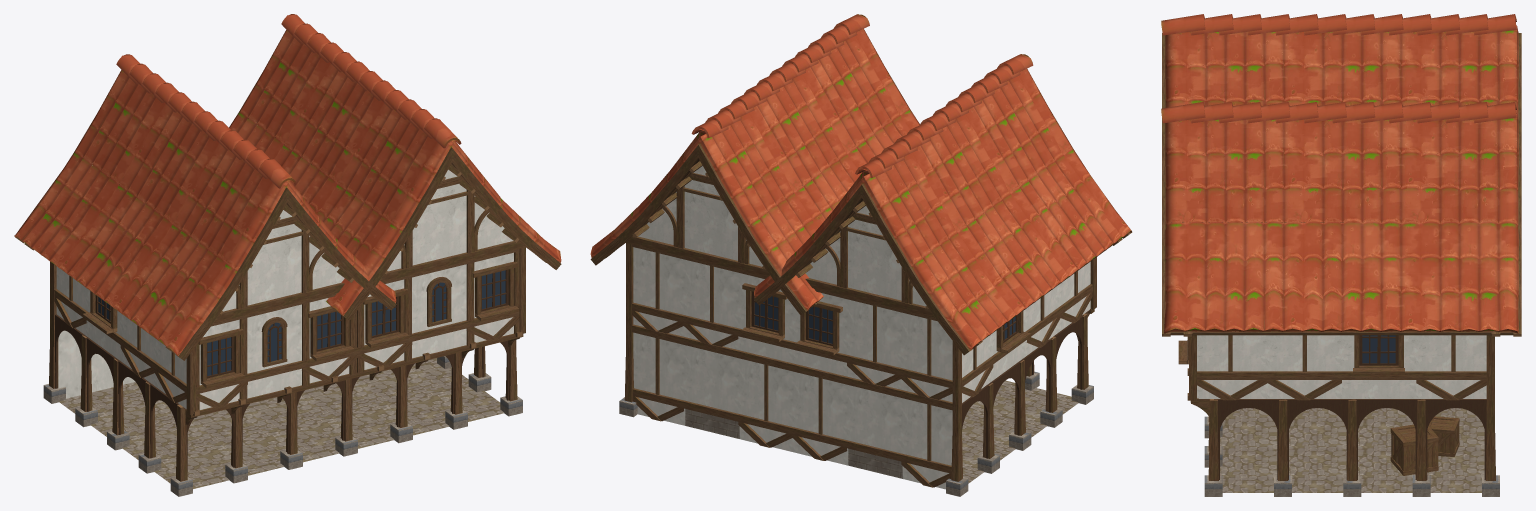
Rendered from market_hall.glb.
The picture shows the model from 3 angles, left to right: view 1: azimuth 30°, elevation 25°; view 2: azimuth 150°, elevation 25°; view 3: azimuth 270°, elevation 25°; orthographic projection. The views are drawn at different scales.
Parts seen in each view (by area): view 1: Roof_RoundTiles_6x8.127, Roof_RoundTiles_6x8.130, Roof_Front_Brick6.131, Roof_Front_Brick6.128, Wall_Plaster_Window_Thin_Round+upper.095, Wall_Plaster_Window_Thin_Round+upper.101, Wall_Plaster_Window_Wide_Flat2+upper.103, Wall_Plaster_Window_Wide_Flat2+upper.097, Wall_Plaster_Window_Wide_Flat2+upper.099, Wall_Plaster_Window_Wide_Flat2+upper.093, Window_Wide_Flat1.104, Window_Wide_Flat1.094 (+33 smaller); view 2: Roof_RoundTiles_6x8.127, Roof_RoundTiles_6x8.130, Roof_Front_Brick6.132, Roof_Front_Brick6.129, Wall_Plaster_Straight.010, Wall_Plaster_Straight.009, Wall_Plaster_Straight_Base.011, Wall_Plaster_Straight_Base.008, Wall_Plaster_Straight.007, Wall_Plaster_Straight+upper.111, Wall_Plaster_Straight.012, Wall_Plaster_Straight+upper.106 (+22 smaller); view 3: Roof_RoundTiles_6x8.130, Roof_RoundTiles_6x8.127, Wall_Plaster_Straight+upper.119, Wall_Plaster_Straight+upper.118, Wall_Plaster_Straight+upper.122, Wall_Plaster_Window_Wide_Flat+upper.120, Window_Wide_Flat1.121, Floor_UnevenBrick.068, Floor_UnevenBrick.067, Prop_Crate.076, Floor_UnevenBrick.072, Floor_UnevenBrick.071 (+20 smaller).
Part boxes in pixels (x1,y1,x2,y2): Roof_RoundTiles_6x8.127: (14, 54, 396, 360); Roof_RoundTiles_6x8.130: (229, 14, 561, 320); Roof_Front_Brick6.131: (380, 165, 526, 282); Roof_Front_Brick6.128: (213, 205, 353, 323); Wall_Plaster_Window_Thin_Round+upper.095: (247, 301, 302, 398); Wall_Plaster_Window_Thin_Round+upper.101: (412, 261, 467, 358); Wall_Plaster_Window_Wide_Flat2+upper.103: (466, 249, 519, 346); Wall_Plaster_Window_Wide_Flat2+upper.097: (301, 293, 357, 386); Wall_Plaster_Window_Wide_Flat2+upper.099: (357, 275, 412, 373); Wall_Plaster_Window_Wide_Flat2+upper.093: (196, 315, 247, 410); Window_Wide_Flat1.104: (472, 261, 519, 320); Window_Wide_Flat1.094: (198, 328, 244, 387); Roof_RoundTiles_6x8.127: (754, 54, 1132, 355); Roof_RoundTiles_6x8.130: (590, 14, 919, 315); Roof_Front_Brick6.132: (625, 161, 769, 277); Roof_Front_Brick6.129: (796, 201, 934, 317); Wall_Plaster_Straight.010: (792, 363, 848, 465); Wall_Plaster_Straight.009: (738, 350, 793, 452); Wall_Plaster_Straight_Base.011: (846, 377, 902, 478); Wall_Plaster_Straight_Base.008: (683, 337, 739, 438); Wall_Plaster_Straight.007: (632, 324, 685, 425); Wall_Plaster_Straight+upper.111: (846, 296, 902, 389); Wall_Plaster_Straight.012: (901, 390, 952, 489); Wall_Plaster_Straight+upper.106: (683, 257, 739, 350); Roof_RoundTiles_6x8.130: (1161, 102, 1521, 336); Roof_RoundTiles_6x8.127: (1161, 14, 1521, 120); Wall_Plaster_Straight+upper.119: (1267, 335, 1341, 400); Wall_Plaster_Straight+upper.118: (1197, 335, 1267, 400); Wall_Plaster_Straight+upper.122: (1416, 335, 1486, 400); Wall_Plaster_Window_Wide_Flat+upper.120: (1342, 335, 1416, 398); Window_Wide_Flat1.121: (1353, 335, 1404, 374); Floor_UnevenBrick.068: (1289, 433, 1346, 462); Floor_UnevenBrick.067: (1220, 433, 1277, 462); Prop_Crate.076: (1390, 424, 1438, 475); Floor_UnevenBrick.072: (1289, 463, 1346, 492); Floor_UnevenBrick.071: (1220, 463, 1277, 492).
Bounding box in the file's own units: 14.25 × 11.01 × 10.41.
Materials: 7 (6 with a texture image).
